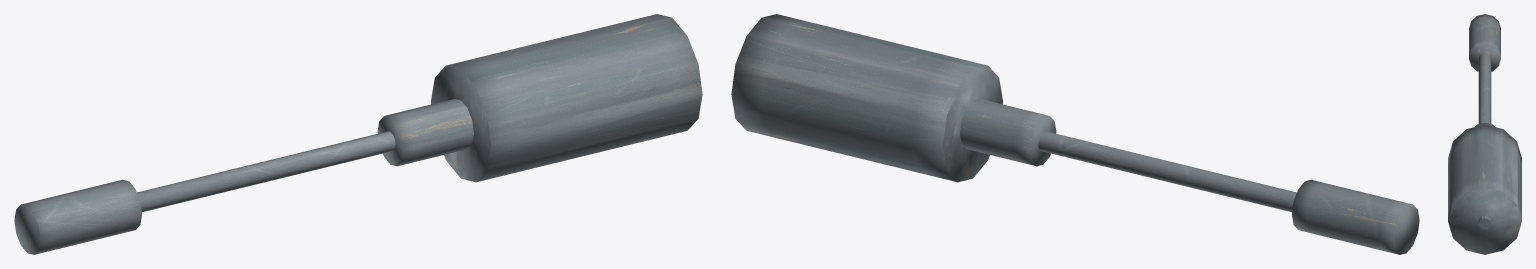
Rendered from ShipsEngineDebris2.fbx.
3 renders of one model, left to right at view 1: azimuth 30°, elevation 25°; view 2: azimuth 150°, elevation 25°; view 3: azimuth 270°, elevation 25°, orthographic. The views are drawn at different scales.
Parts seen in each view (by area): view 1: Cylinder; view 2: Cylinder; view 3: Cylinder.
Part boxes in pixels (x1,y1,x2,y2): Cylinder: (14, 14, 702, 254); Cylinder: (731, 14, 1419, 254); Cylinder: (1448, 14, 1521, 254).
Bounding box in the file's own units: 606 × 96.83 × 96.83.
